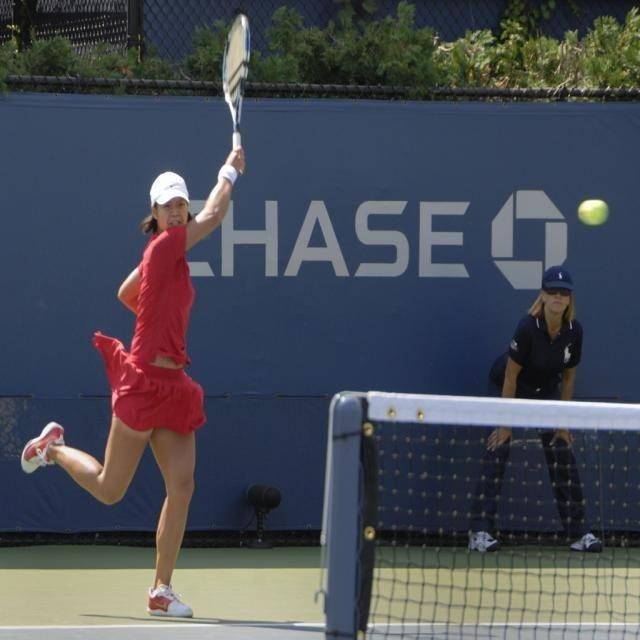ball: (577, 198, 609, 226)
